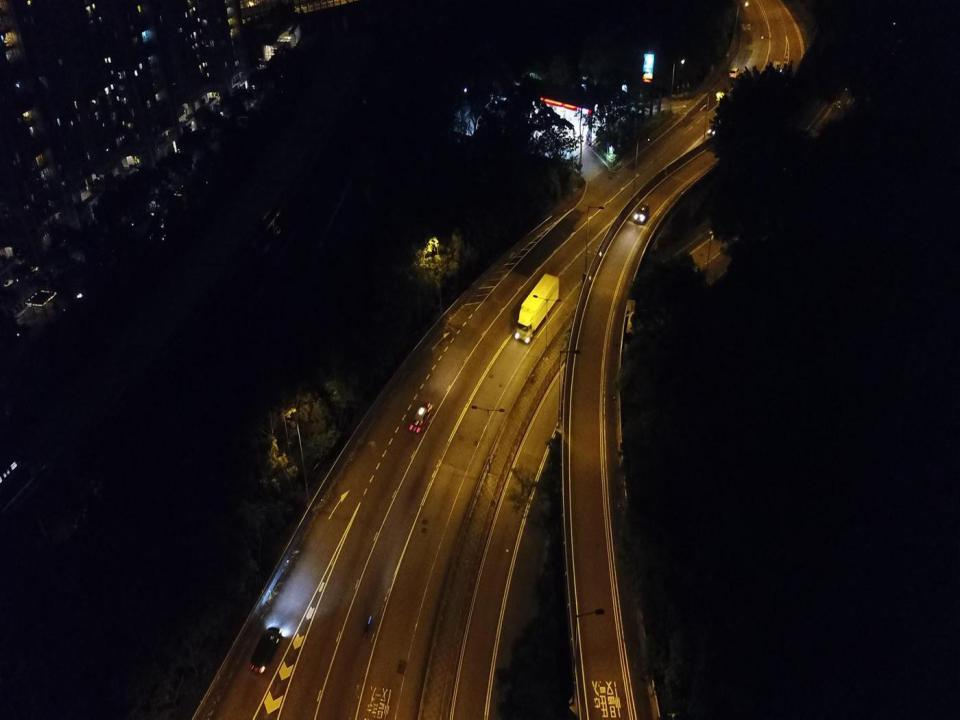car: (250, 627, 282, 673), (408, 401, 434, 434), (633, 201, 650, 224), (728, 66, 741, 80)
truck: (515, 272, 560, 344)
